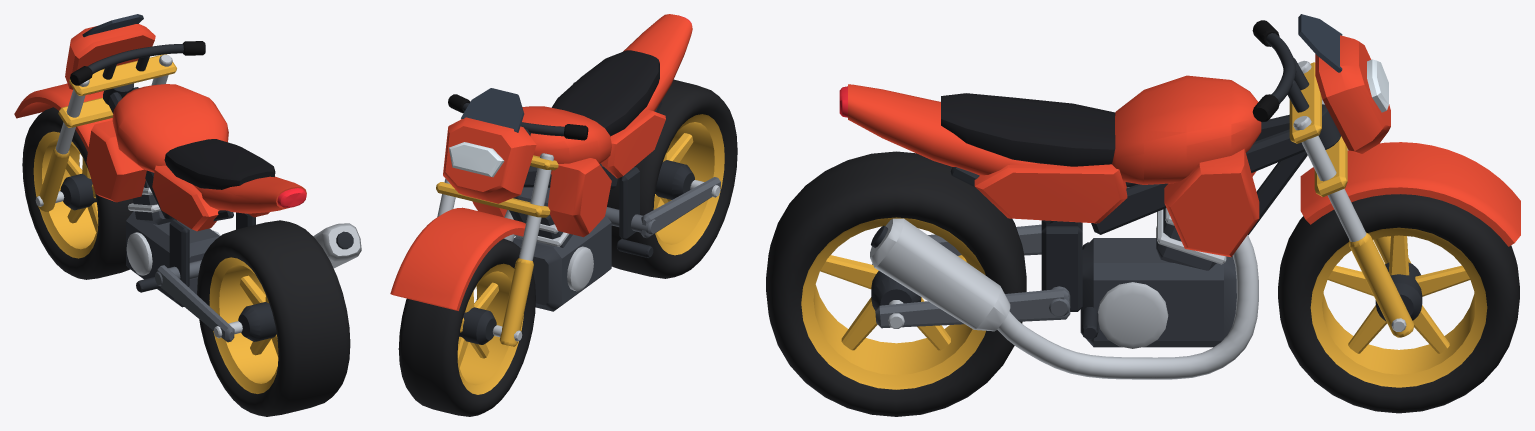
The model's file is MotorcycleTag_Bike.obj.
3 views of the same model, side by side, from view 1: azimuth 30°, elevation 25°; view 2: azimuth 150°, elevation 25°; view 3: azimuth 270°, elevation 25° (orthographic). The views are drawn at different scales.
Parts seen in each view (by area): view 1: RearWheel, Bodywork, FrontWheel, Fork, Engine, Seat, HeadlightCowl, Frame, Swingarm, Handlebars, FrontFender, Exhaust (+2 smaller); view 2: FrontWheel, RearWheel, Bodywork, FrontFender, Engine, Seat, HeadlightCowl, Fork, Frame, Swingarm, Windscreen, Headlight (+1 smaller); view 3: RearWheel, FrontWheel, Bodywork, Exhaust, Engine, FrontFender, Seat, Frame, Fork, HeadlightCowl, Swingarm, Handlebars (+2 smaller).
Boxes of the visible parts, bbox=[...] form: RearWheel: bbox=[197, 220, 350, 416]; Bodywork: bbox=[86, 84, 306, 231]; FrontWheel: bbox=[22, 107, 133, 279]; Fork: bbox=[35, 54, 176, 211]; Engine: bbox=[126, 180, 220, 307]; Seat: bbox=[164, 139, 275, 189]; HeadlightCowl: bbox=[65, 24, 155, 94]; Frame: bbox=[103, 83, 255, 292]; Swingarm: bbox=[155, 260, 242, 342]; Handlebars: bbox=[70, 41, 205, 85]; FrontFender: bbox=[14, 83, 112, 151]; Exhaust: bbox=[313, 223, 361, 268]; FrontWheel: bbox=[398, 238, 535, 416]; RearWheel: bbox=[607, 79, 737, 278]; Bodywork: bbox=[472, 14, 692, 237]; FrontFender: bbox=[390, 207, 525, 310]; Engine: bbox=[513, 187, 611, 311]; Seat: bbox=[552, 50, 659, 136]; HeadlightCowl: bbox=[443, 117, 536, 203]; Fork: bbox=[436, 153, 558, 346]; Frame: bbox=[509, 101, 662, 257]; Swingarm: bbox=[605, 177, 720, 238]; Windscreen: bbox=[461, 88, 524, 132]; Headlight: bbox=[449, 142, 504, 177]; RearWheel: bbox=[766, 151, 1026, 416]; FrontWheel: bbox=[1278, 194, 1519, 413]; Bodywork: bbox=[848, 75, 1261, 257]; Exhaust: bbox=[870, 218, 1258, 379]; Engine: bbox=[1080, 208, 1236, 348]; FrontFender: bbox=[1300, 142, 1520, 246]; Seat: bbox=[941, 93, 1115, 166]; Frame: bbox=[950, 104, 1340, 339]; Fork: bbox=[1289, 60, 1414, 337]; HeadlightCowl: bbox=[1315, 35, 1390, 153]; Swingarm: bbox=[875, 224, 1070, 328]; Handlebars: bbox=[1252, 20, 1309, 121].
Bounding box in the file's own units: 2.59 × 4.5 × 8.11.
Materials: 1 (1 with a texture image).
